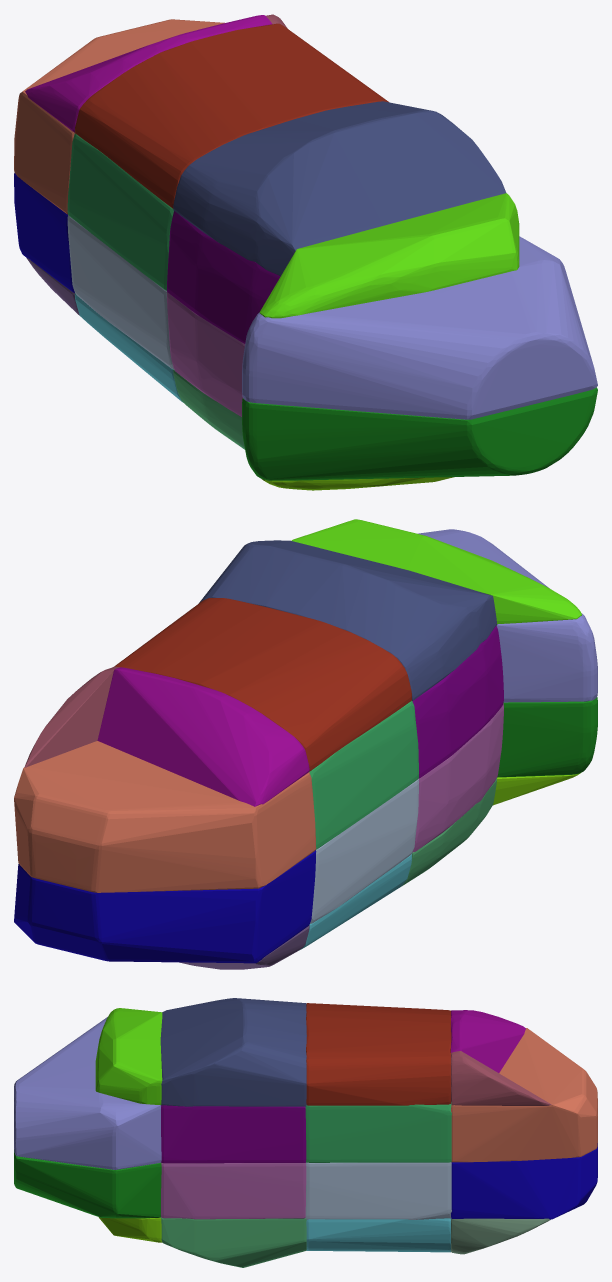
Rendered from torso_split.obj.
3 views of the same model, one above another, from view 1: azimuth 30°, elevation 25°; view 2: azimuth 150°, elevation 25°; view 3: azimuth 270°, elevation 25° (orthographic). The views are drawn at different scales.
Parts seen in each view (by area): view 1: geometry_12, geometry_16, geometry_15, geometry_8, geometry_17, geometry_10, geometry_9, geometry_11, geometry_6, geometry_7, geometry_14, geometry_5 (+4 smaller); view 2: geometry_9, geometry_15, geometry_16, geometry_5, geometry_14, geometry_17, geometry_12, geometry_10, geometry_6, geometry_11, geometry_8, geometry_7 (+5 smaller); view 3: geometry_16, geometry_15, geometry_12, geometry_9, geometry_10, geometry_6, geometry_11, geometry_5, geometry_7, geometry_8, geometry_3, geometry_17 (+5 smaller).
Boxes of the visible parts, left/top/right/bottom form: geometry_12: left=242, top=236, right=597, bottom=419; geometry_16: left=173, top=101, right=506, bottom=275; geometry_15: left=74, top=23, right=388, bottom=208; geometry_8: left=242, top=387, right=597, bottom=480; geometry_17: left=259, top=193, right=519, bottom=318; geometry_10: left=67, top=133, right=173, bottom=290; geometry_9: left=14, top=19, right=224, bottom=214; geometry_11: left=167, top=211, right=280, bottom=343; geometry_6: left=67, top=215, right=173, bottom=369; geometry_7: left=167, top=292, right=245, bottom=416; geometry_14: left=25, top=15, right=271, bottom=132; geometry_5: left=14, top=173, right=74, bottom=292; geometry_9: left=14, top=741, right=316, bottom=892; geometry_15: left=114, top=598, right=411, bottom=771; geometry_16: left=198, top=540, right=497, bottom=700; geometry_5: left=14, top=850, right=316, bottom=963; geometry_14: left=97, top=667, right=309, bottom=806; geometry_17: left=291, top=519, right=581, bottom=624; geometry_12: left=418, top=529, right=597, bottom=702; geometry_10: left=309, top=700, right=418, bottom=849; geometry_6: left=310, top=778, right=418, bottom=923; geometry_11: left=412, top=626, right=503, bottom=778; geometry_8: left=497, top=697, right=597, bottom=777; geometry_7: left=412, top=703, right=503, bottom=852; geometry_16: left=160, top=998, right=306, bottom=1106; geometry_15: left=306, top=1003, right=451, bottom=1105; geometry_12: left=14, top=1017, right=161, bottom=1169; geometry_9: left=451, top=1028, right=597, bottom=1162; geometry_10: left=305, top=1102, right=451, bottom=1162; geometry_6: left=305, top=1162, right=451, bottom=1219; geometry_11: left=161, top=1105, right=306, bottom=1163; geometry_5: left=451, top=1143, right=597, bottom=1219; geometry_7: left=161, top=1163, right=306, bottom=1219; geometry_8: left=14, top=1149, right=161, bottom=1218; geometry_3: left=160, top=1217, right=306, bottom=1267; geometry_17: left=95, top=1008, right=162, bottom=1104.
Bounding box in the file's own units: 0.2492 × 0.2438 × 0.5674.
